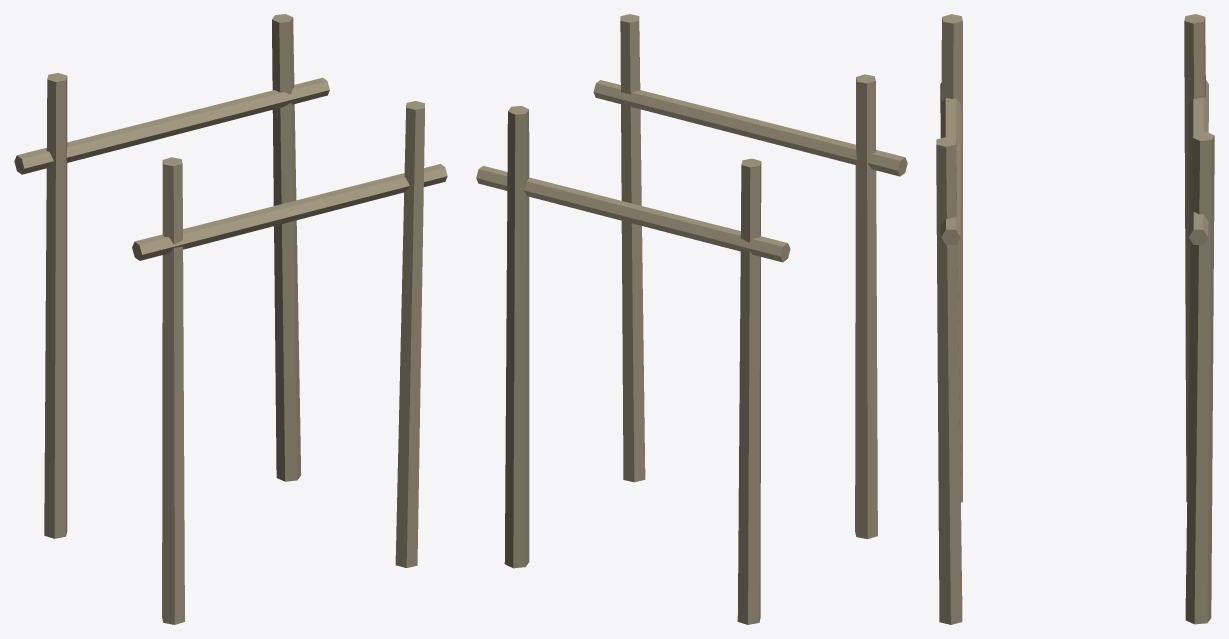
File: jirau_pes.glb
3 renders of one model, left to right at view 1: azimuth 30°, elevation 25°; view 2: azimuth 150°, elevation 25°; view 3: azimuth 270°, elevation 25°, orthographic. The views are drawn at different scales.
Visible parts, largest first — view 1: jirau_pes; view 2: jirau_pes; view 3: jirau_pes.
Boxes of the visible parts, x1,y1,x2,y2 form: jirau_pes: (14,14,447,624); jirau_pes: (476,14,907,624); jirau_pes: (936,14,1214,624).
Size of the model in its own units: 0.8405 by 1.2 by 0.6302.
